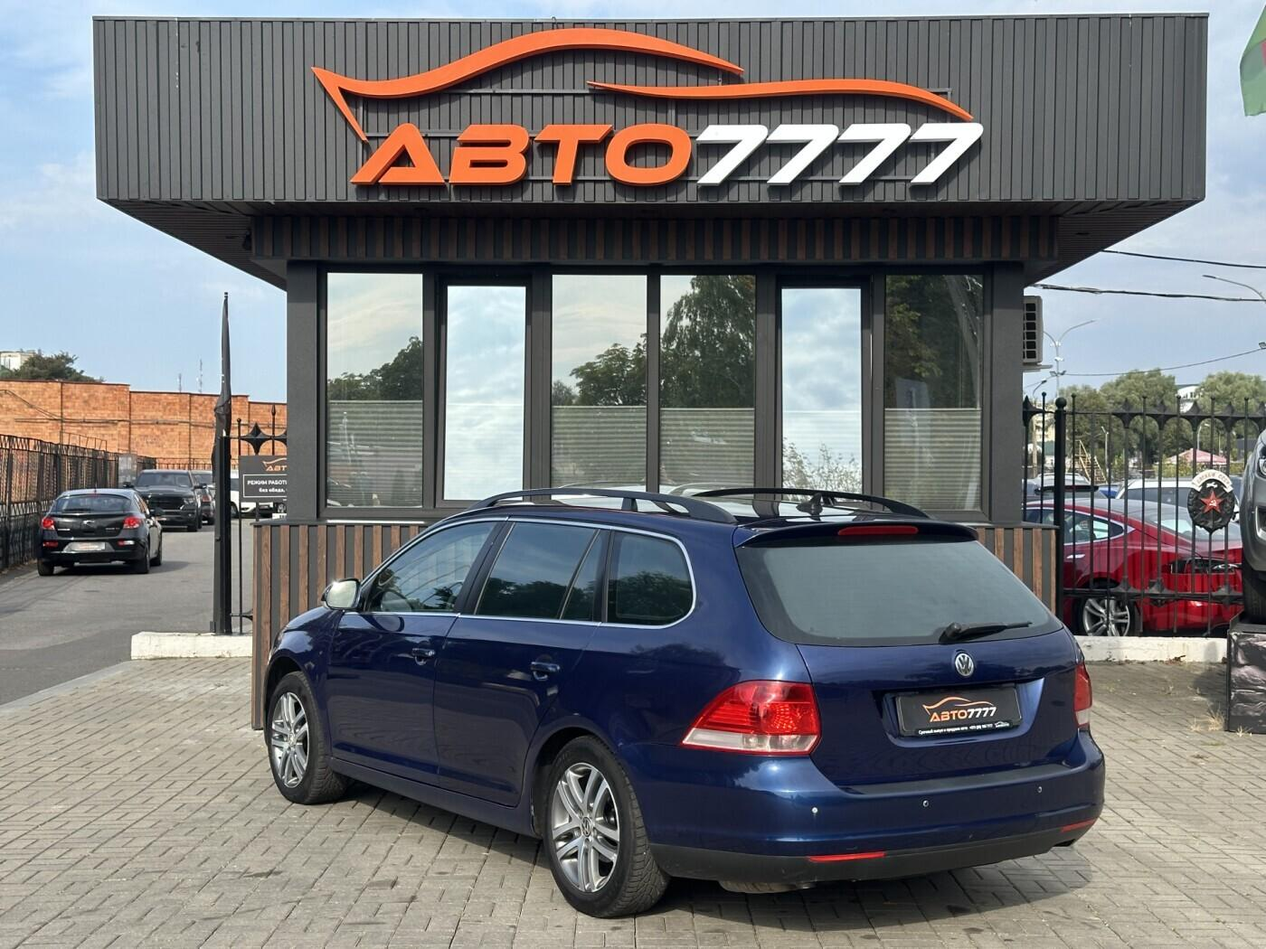Golf_2003-2009: (260, 481, 1108, 916)
